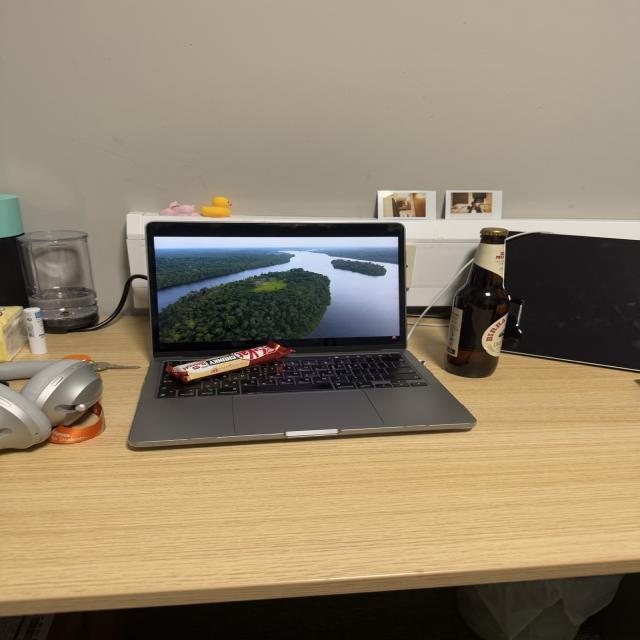beer: (446, 224, 514, 378)
chocolate: (155, 336, 300, 388)
